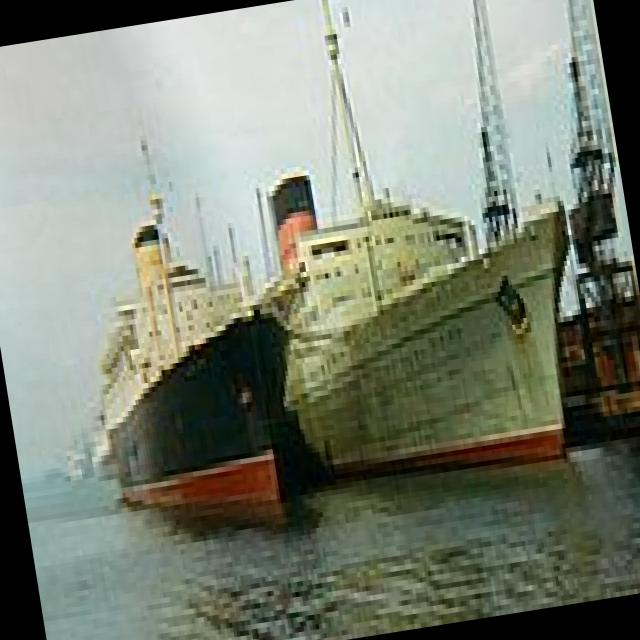boat: (245, 194, 618, 516), (63, 269, 342, 547)
